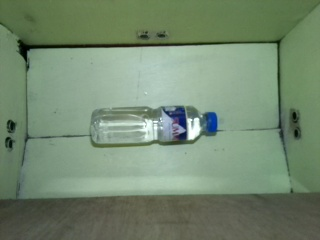bottle: (89, 102, 219, 149)
